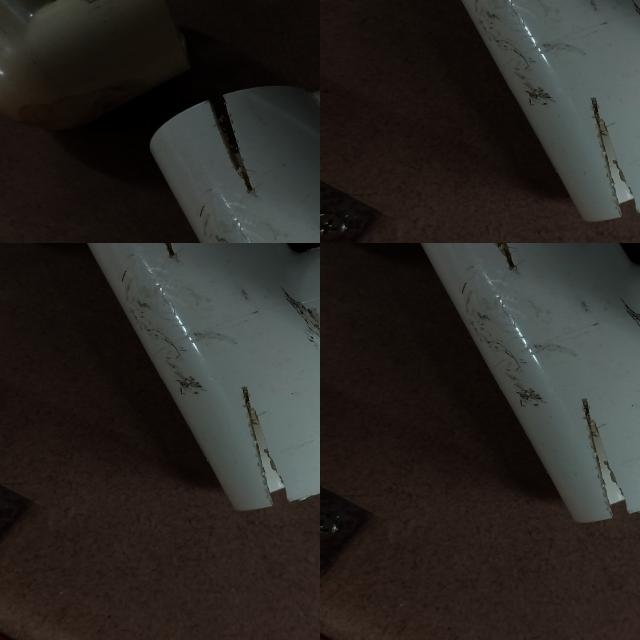Defective: (577, 385, 640, 523), (467, 243, 529, 277)
T Joint: (412, 243, 640, 531), (45, 7, 94, 58)
